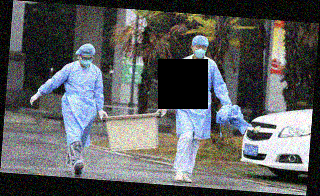with_mask: (193, 45, 207, 59), (79, 56, 93, 68)
